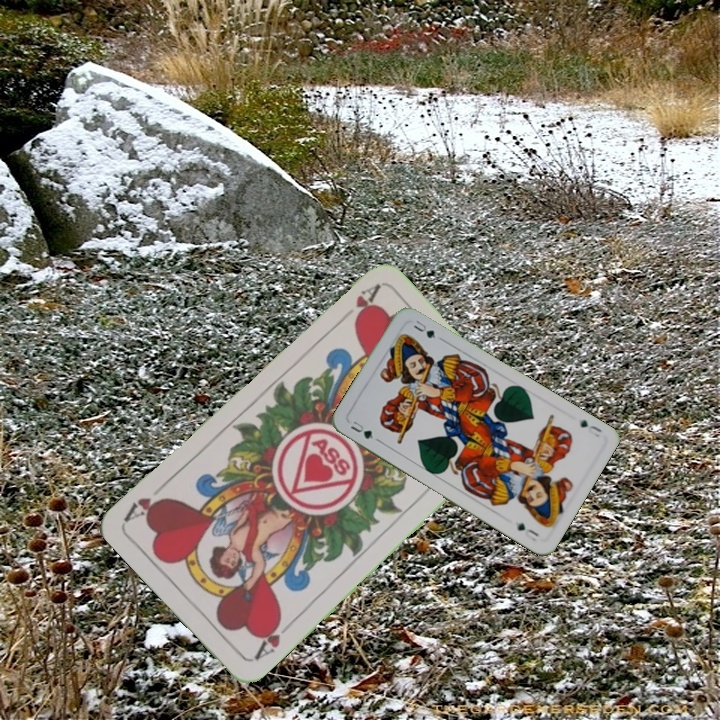GU: (346, 416, 376, 442), (576, 416, 604, 440)
HA: (249, 613, 296, 663), (333, 281, 382, 328)
